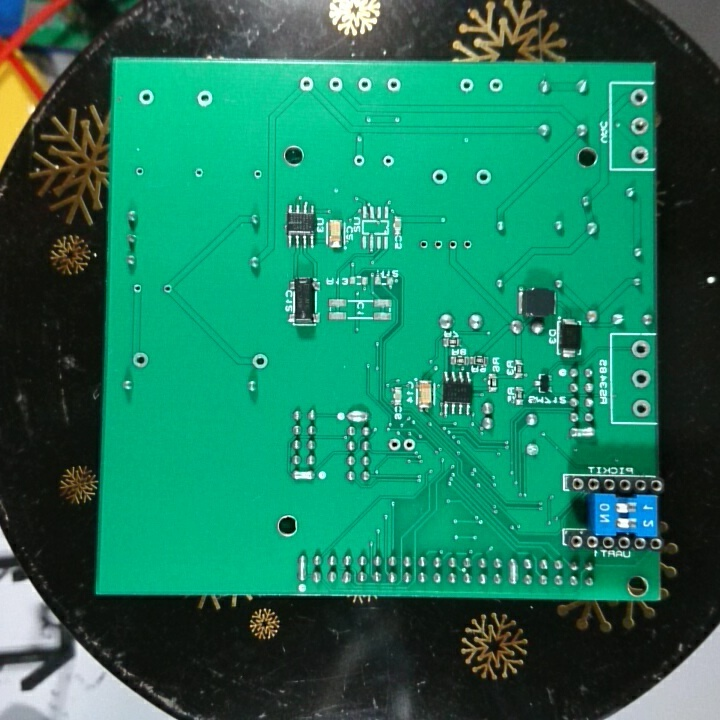F: (191, 86, 217, 112), (627, 112, 652, 138), (131, 87, 159, 110), (627, 140, 652, 165), (630, 395, 654, 420), (627, 86, 651, 110), (629, 366, 653, 390), (296, 72, 319, 97), (250, 349, 273, 374), (629, 337, 653, 360), (130, 348, 152, 372), (429, 164, 450, 189), (521, 439, 544, 461), (355, 73, 375, 97), (384, 74, 406, 95), (324, 75, 347, 95), (473, 166, 494, 187), (401, 435, 419, 459), (486, 76, 507, 96), (457, 75, 476, 96), (157, 280, 179, 298), (386, 433, 402, 457), (445, 234, 461, 256), (190, 164, 207, 183), (461, 235, 476, 256), (350, 152, 368, 169), (131, 164, 150, 180), (380, 152, 397, 169), (416, 235, 430, 255), (130, 278, 144, 298), (250, 165, 267, 181), (431, 235, 444, 255)
P: (567, 423, 599, 442), (290, 468, 317, 484), (296, 549, 308, 582), (344, 409, 372, 423), (508, 556, 520, 588)
